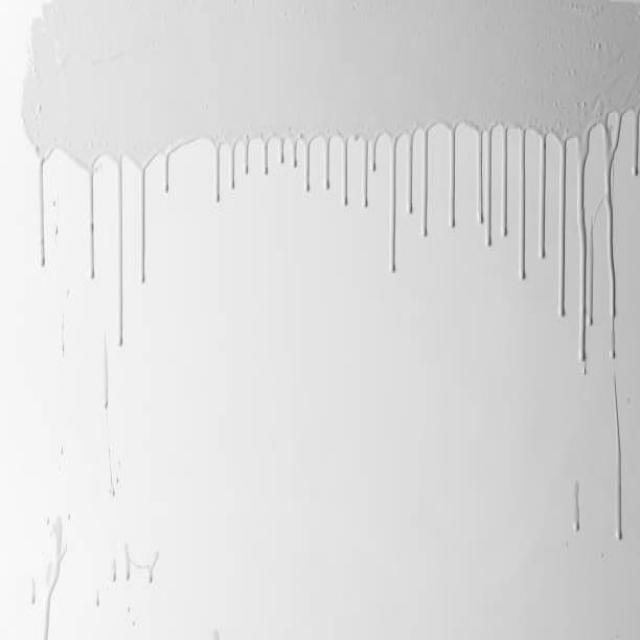paint drips: (25, 100, 640, 374), (26, 511, 66, 640), (104, 534, 172, 588), (607, 365, 625, 560), (98, 439, 124, 522), (97, 335, 113, 417), (570, 471, 585, 544), (55, 313, 67, 368), (88, 581, 103, 607)
